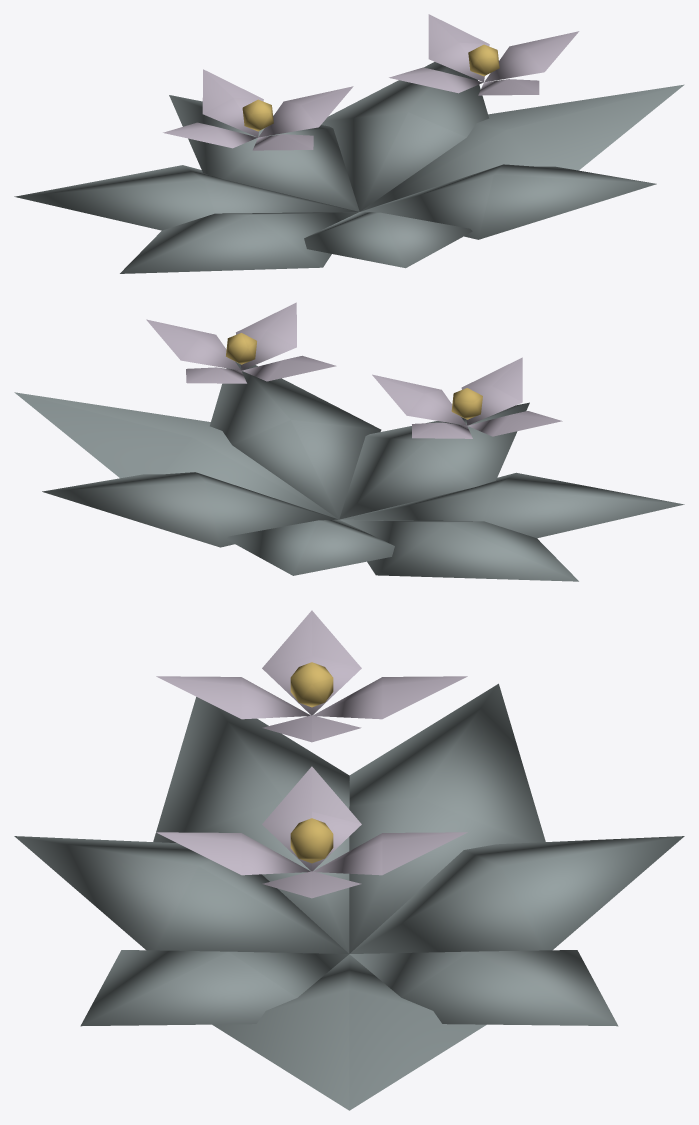
File: map-exclusive-v3__highland_12.glb
3 views of the same model, one above another, from view 1: azimuth 30°, elevation 25°; view 2: azimuth 150°, elevation 25°; view 3: azimuth 270°, elevation 25° (orthographic). The views are drawn at different scales.
Parts seen in each view (by area): view 1: highland_12; view 2: highland_12; view 3: highland_12.
Part boxes in pixels (x1=…): highland_12: x1=14, y1=14, x2=684, y2=273; highland_12: x1=14, y1=302, x2=684, y2=581; highland_12: x1=14, y1=610, x2=684, y2=1110.
Size of the model in its own units: 1.62 by 0.375 by 1.07.
